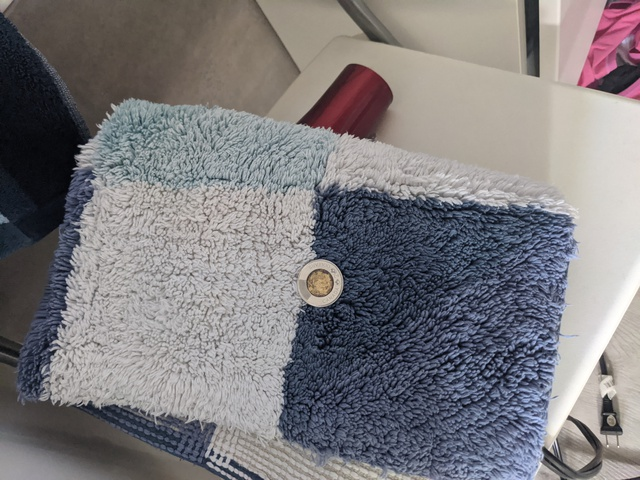twonie: (286, 259, 348, 305)
